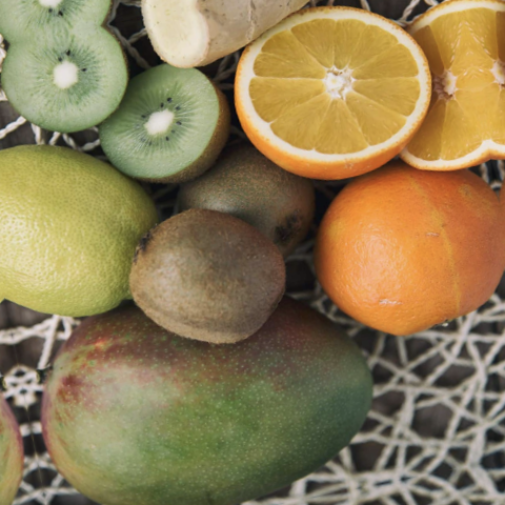kiwi: (11, 256, 428, 505), (119, 192, 298, 366)
orange: (294, 150, 505, 357)
